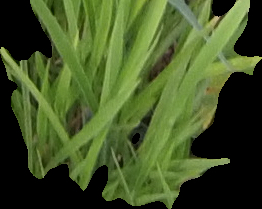grass: (1, 1, 261, 207)
